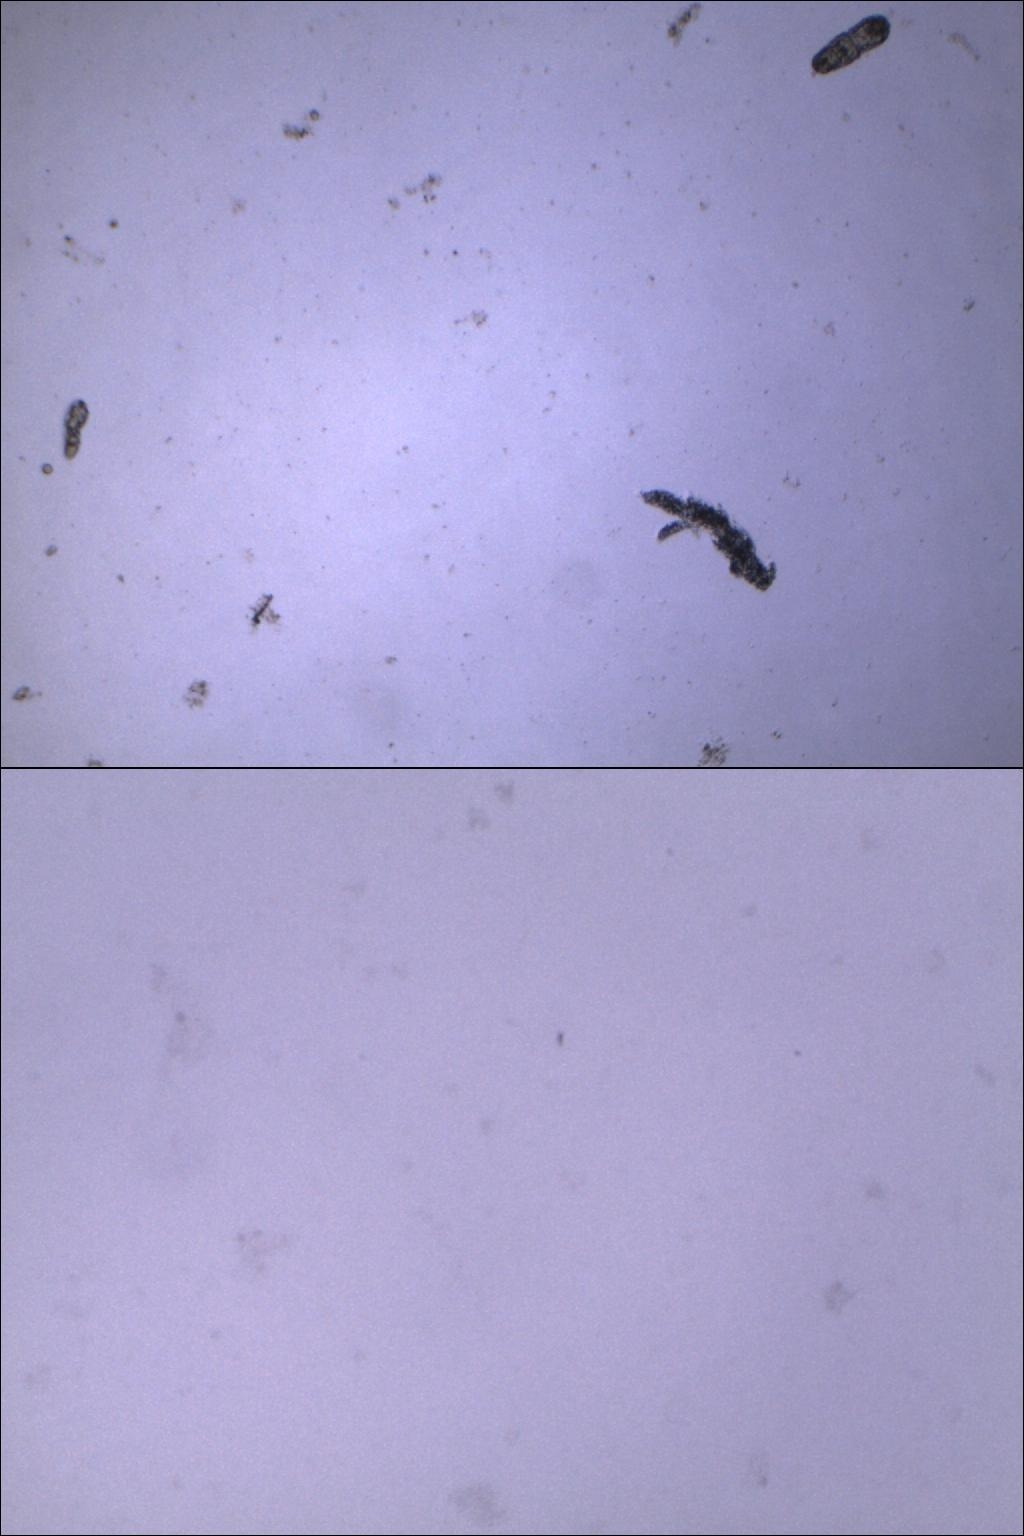N.Fowleri Amoeba: (130, 941, 269, 1113)
Proteus Amoeba: (619, 474, 795, 610)
